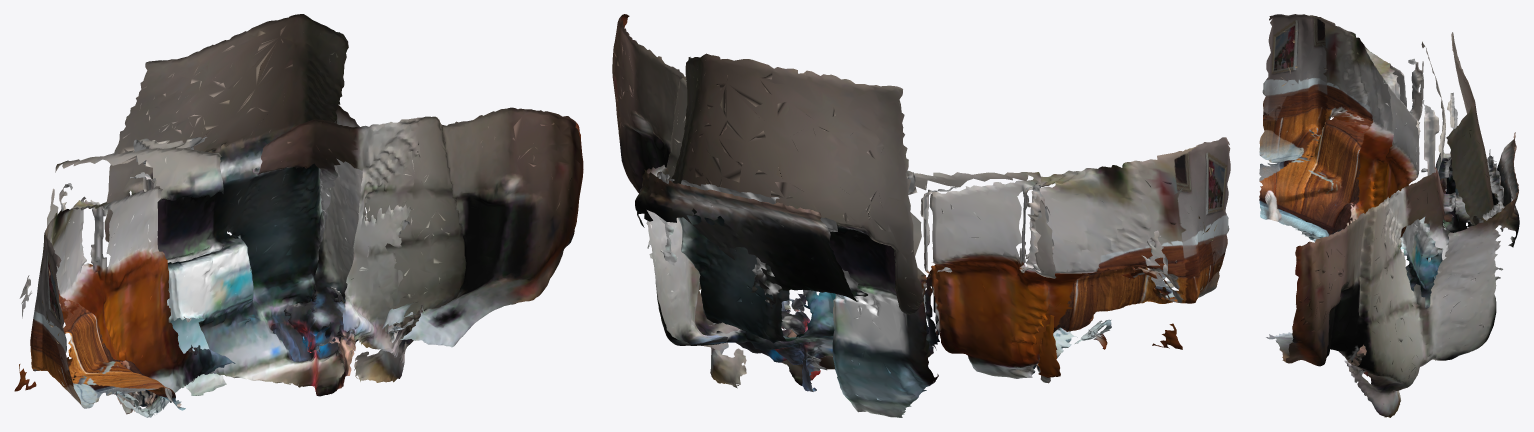
The model's file is scan_20261001_145835_15281.glb.
The picture shows the model from 3 angles, left to right: view 1: azimuth 30°, elevation 25°; view 2: azimuth 150°, elevation 25°; view 3: azimuth 270°, elevation 25°; orthographic projection. The views are drawn at different scales.
Parts seen in each view (by area): view 1: MobileScan3D_Textured; view 2: MobileScan3D_Textured; view 3: MobileScan3D_Textured.
Part boxes in pixels (x1,y1,x2,y2): MobileScan3D_Textured: (14,14,583,417); MobileScan3D_Textured: (612,14,1230,417); MobileScan3D_Textured: (1259,14,1519,417).
Size of the model in its own units: 1.33 by 0.8083 by 0.6363.
1 material, 1 textured.
